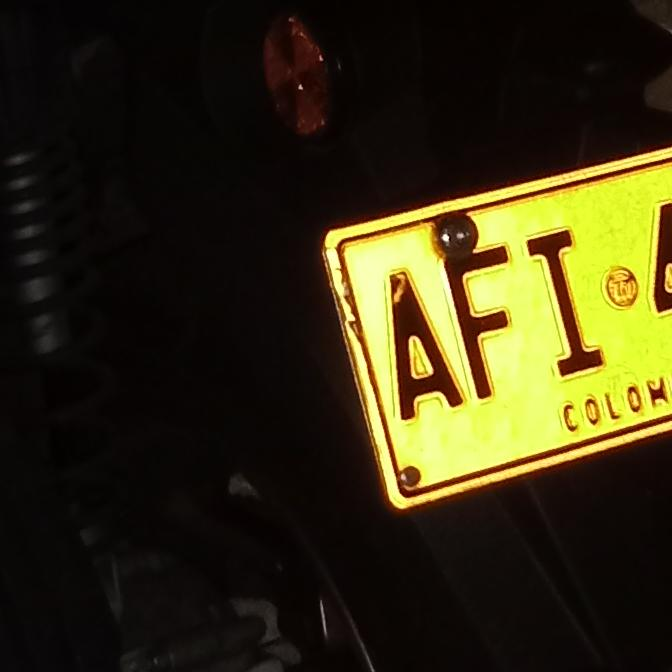plates: (316, 129, 672, 508)
